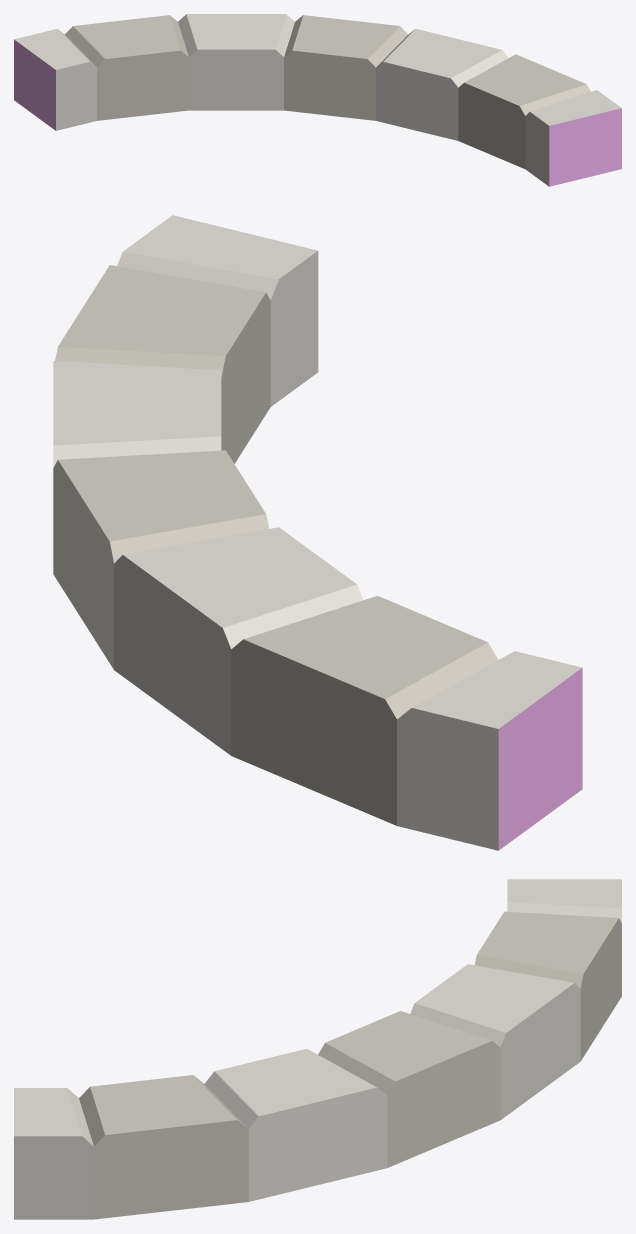
File: Path_Edging_Stones_Curve_2x2.glb
3 views of the same model, one above another, from view 1: azimuth 30°, elevation 25°; view 2: azimuth 150°, elevation 25°; view 3: azimuth 270°, elevation 25° (orthographic). The views are drawn at different scales.
Parts seen in each view (by area): view 1: Path_Edging_Stones_Curve_2x2; view 2: Path_Edging_Stones_Curve_2x2; view 3: Path_Edging_Stones_Curve_2x2.
Part boxes in pixels (box(x1,y1,x2,y2)): Path_Edging_Stones_Curve_2x2: box(14, 14, 621, 186); Path_Edging_Stones_Curve_2x2: box(53, 215, 582, 850); Path_Edging_Stones_Curve_2x2: box(14, 879, 621, 1219).
Bounding box in the file's own units: 166 × 25 × 166.
